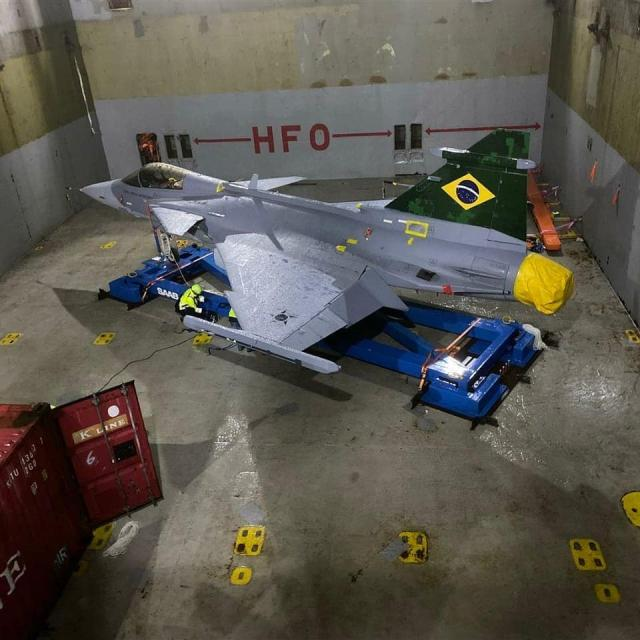MIL_Plane: (64, 127, 574, 374)
